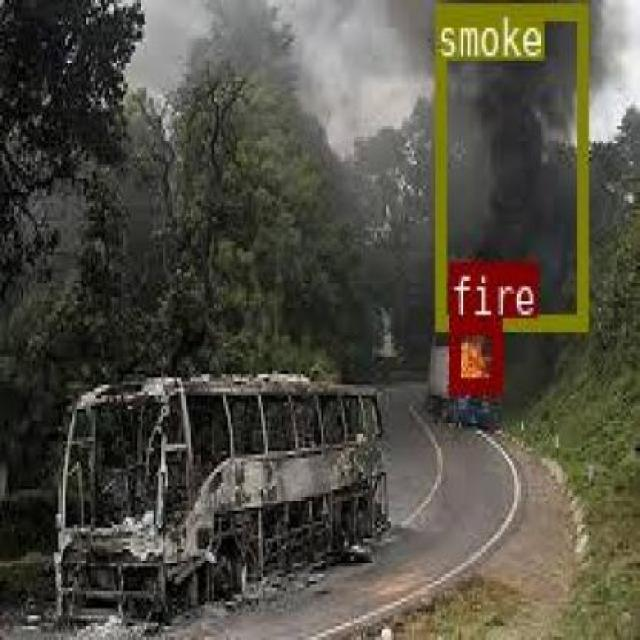Fire: (446, 318, 499, 392)
Smoke: (433, 2, 584, 328)
